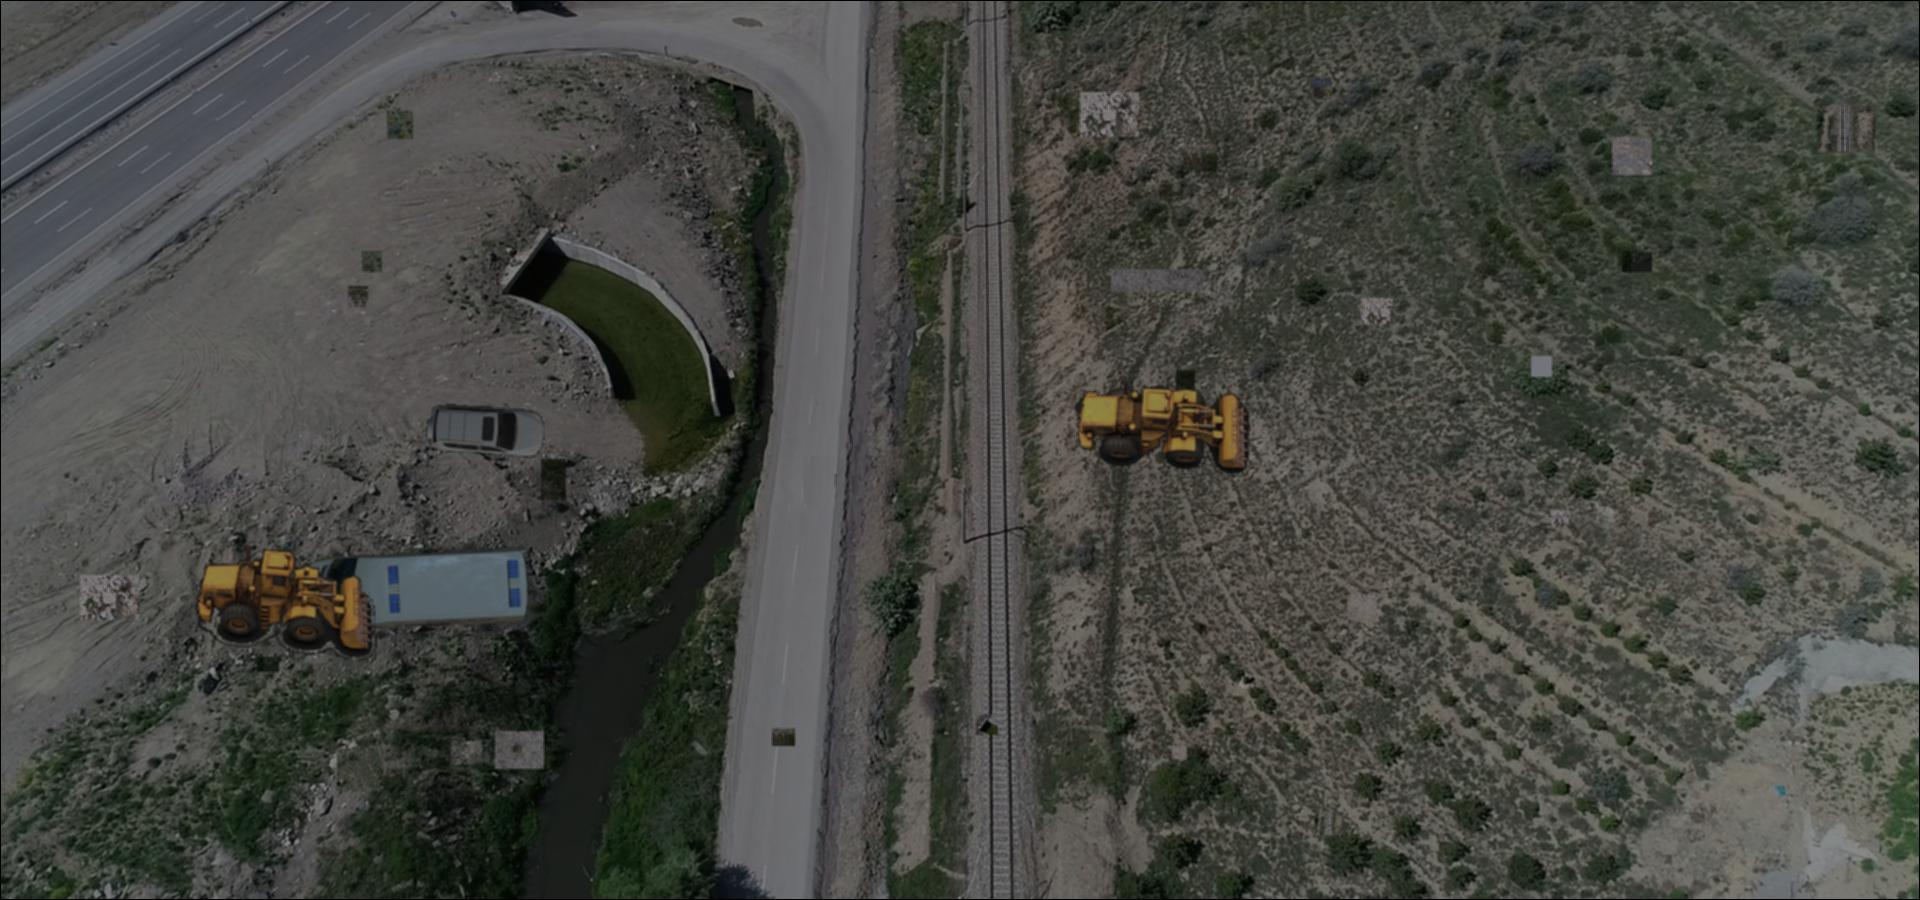arac: (1067, 360, 1262, 489), (298, 539, 531, 638), (191, 542, 378, 660), (426, 403, 547, 460)
